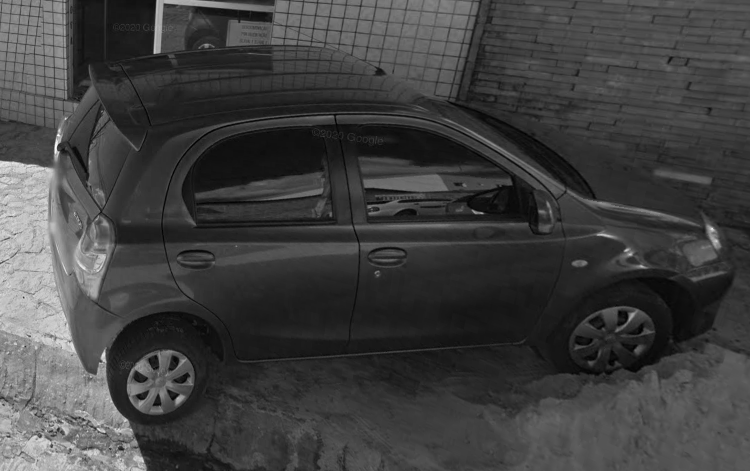car: (49, 15, 737, 425)
